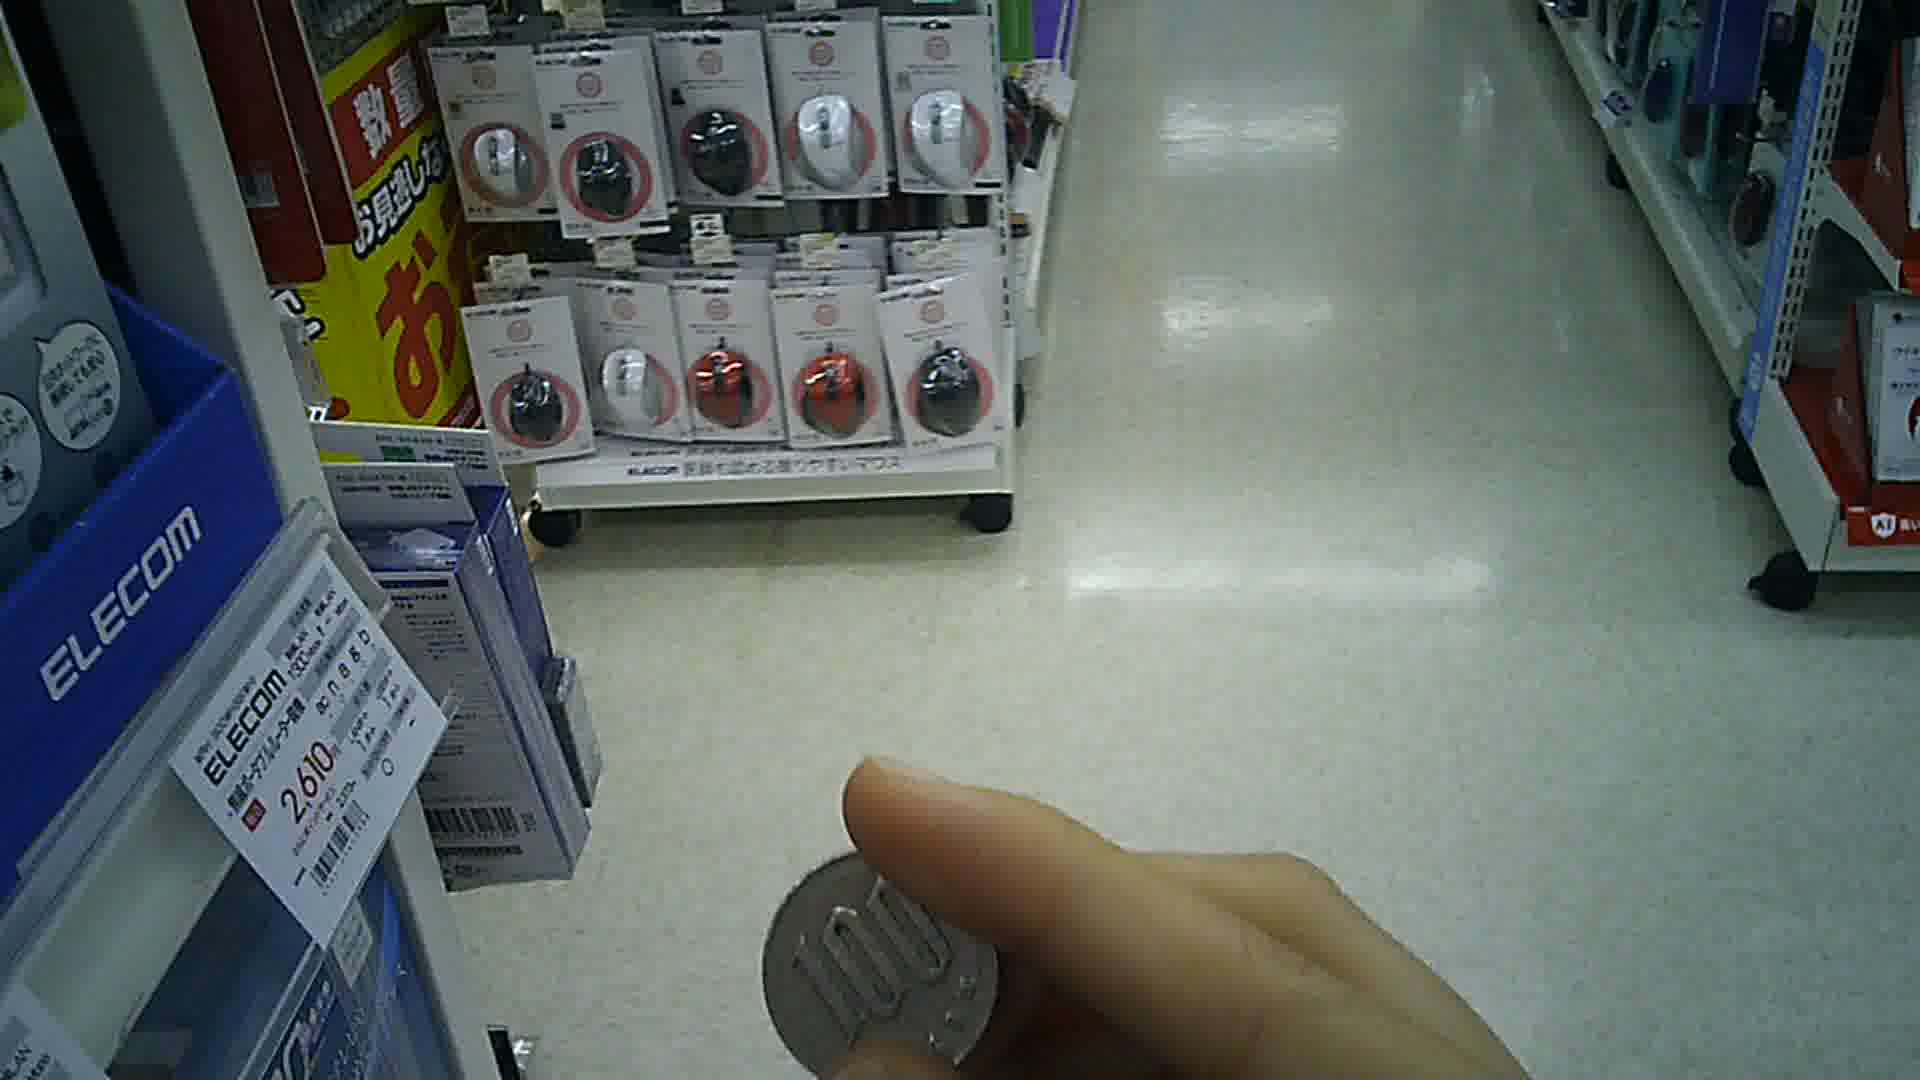100 Yen: (756, 837, 1011, 1079)
